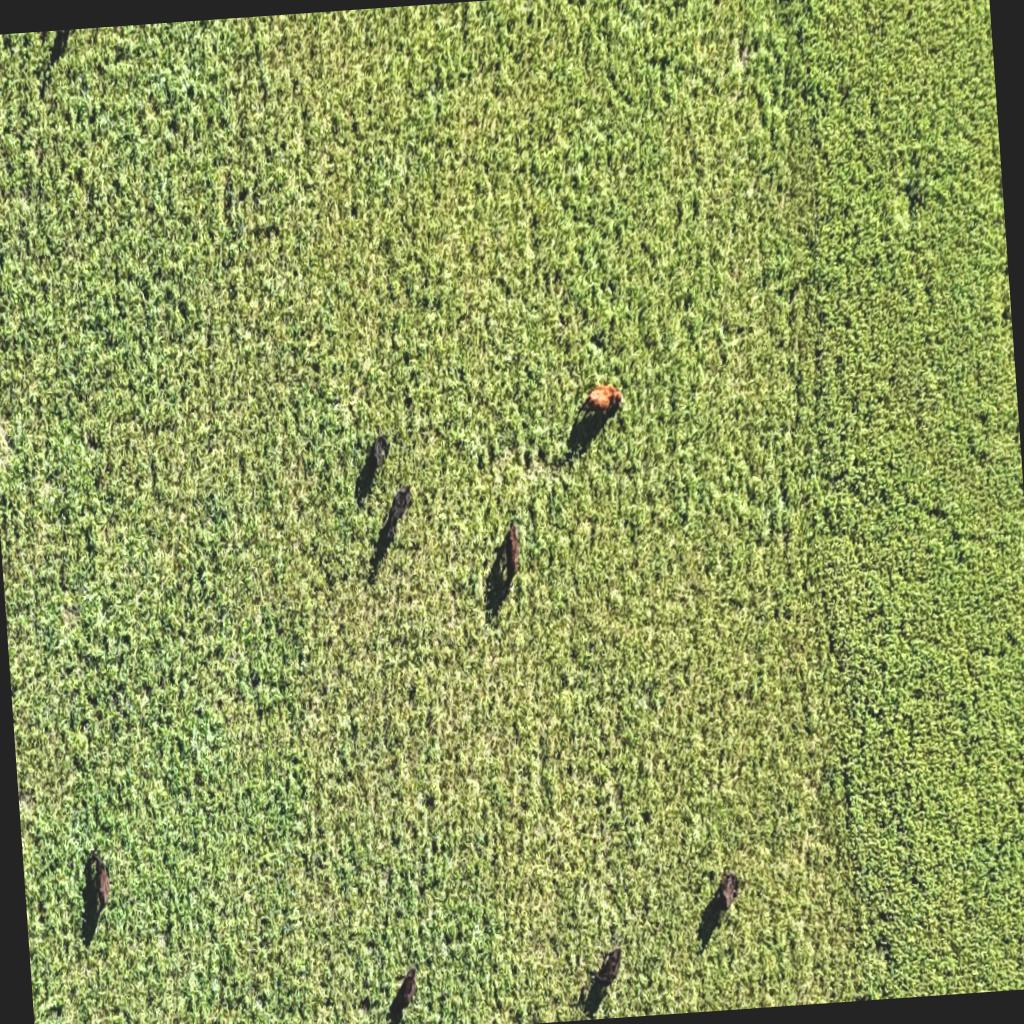cow: (580, 382, 626, 428), (84, 848, 112, 913), (384, 484, 416, 538), (363, 434, 391, 482), (714, 870, 742, 918), (502, 520, 523, 584), (594, 946, 624, 990), (393, 966, 420, 1014)
